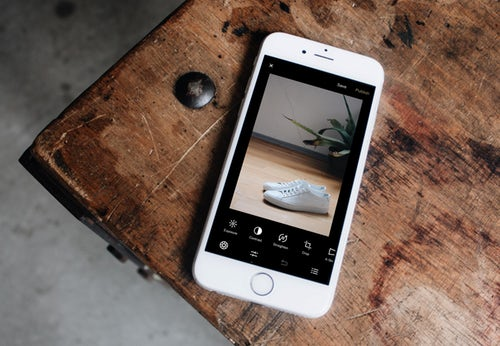phone: (196, 28, 385, 323)
